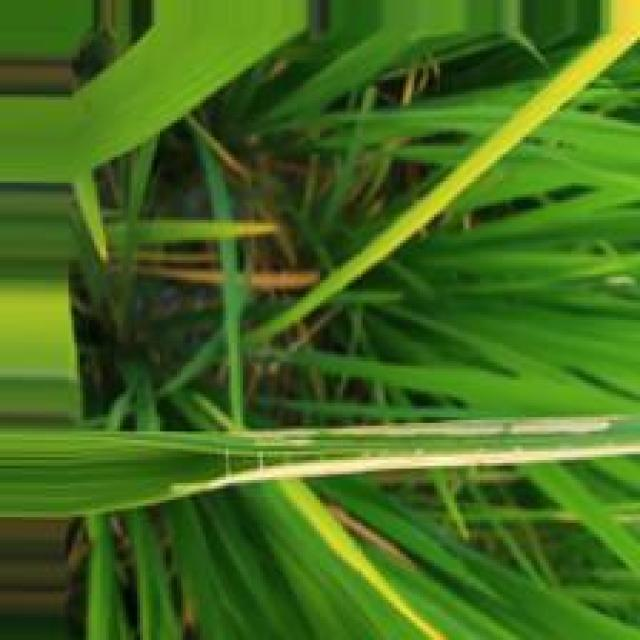Rice_Hispa: (165, 441, 640, 499), (242, 412, 606, 450)
